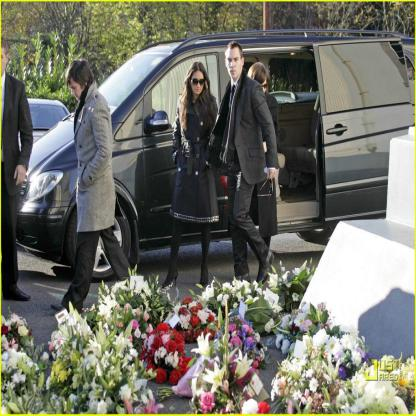face: (227, 48, 242, 79), (70, 79, 86, 101), (192, 71, 204, 95), (1, 50, 7, 81), (258, 79, 268, 94)
